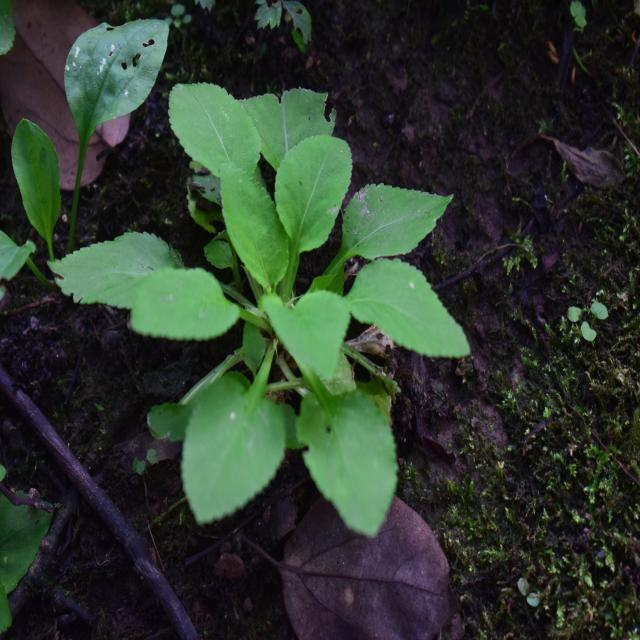Viola: (108, 77, 456, 536)
